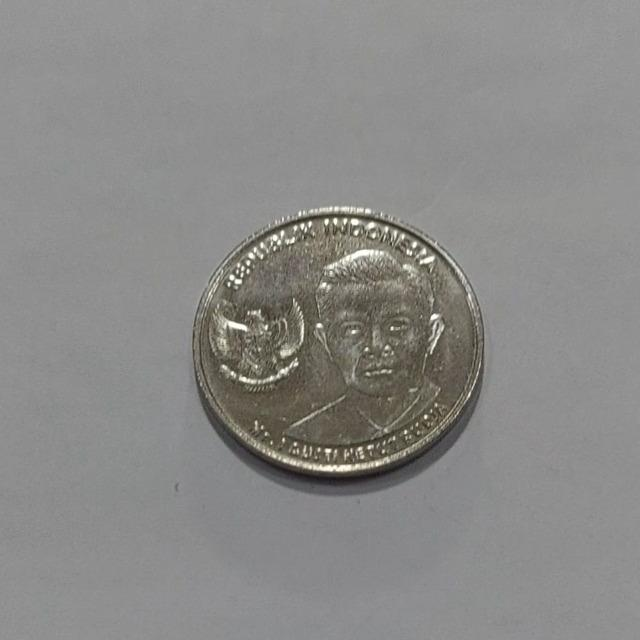Rp100: (191, 204, 485, 480), (277, 245, 449, 451)
